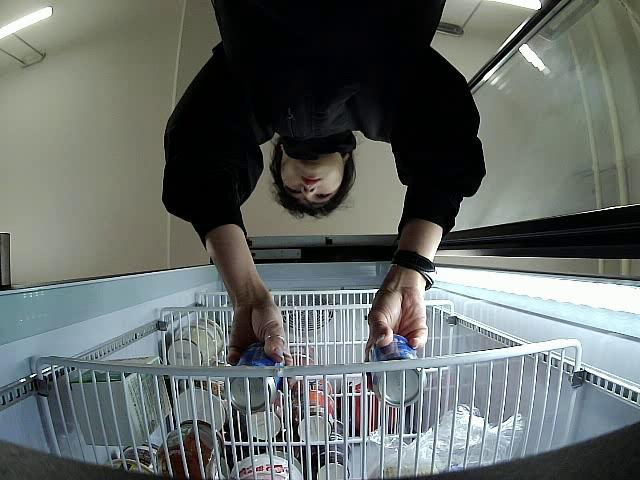00_hand: (226, 304, 293, 364), (364, 290, 429, 351)
15_letsbe: (366, 333, 420, 405), (231, 343, 284, 412)
